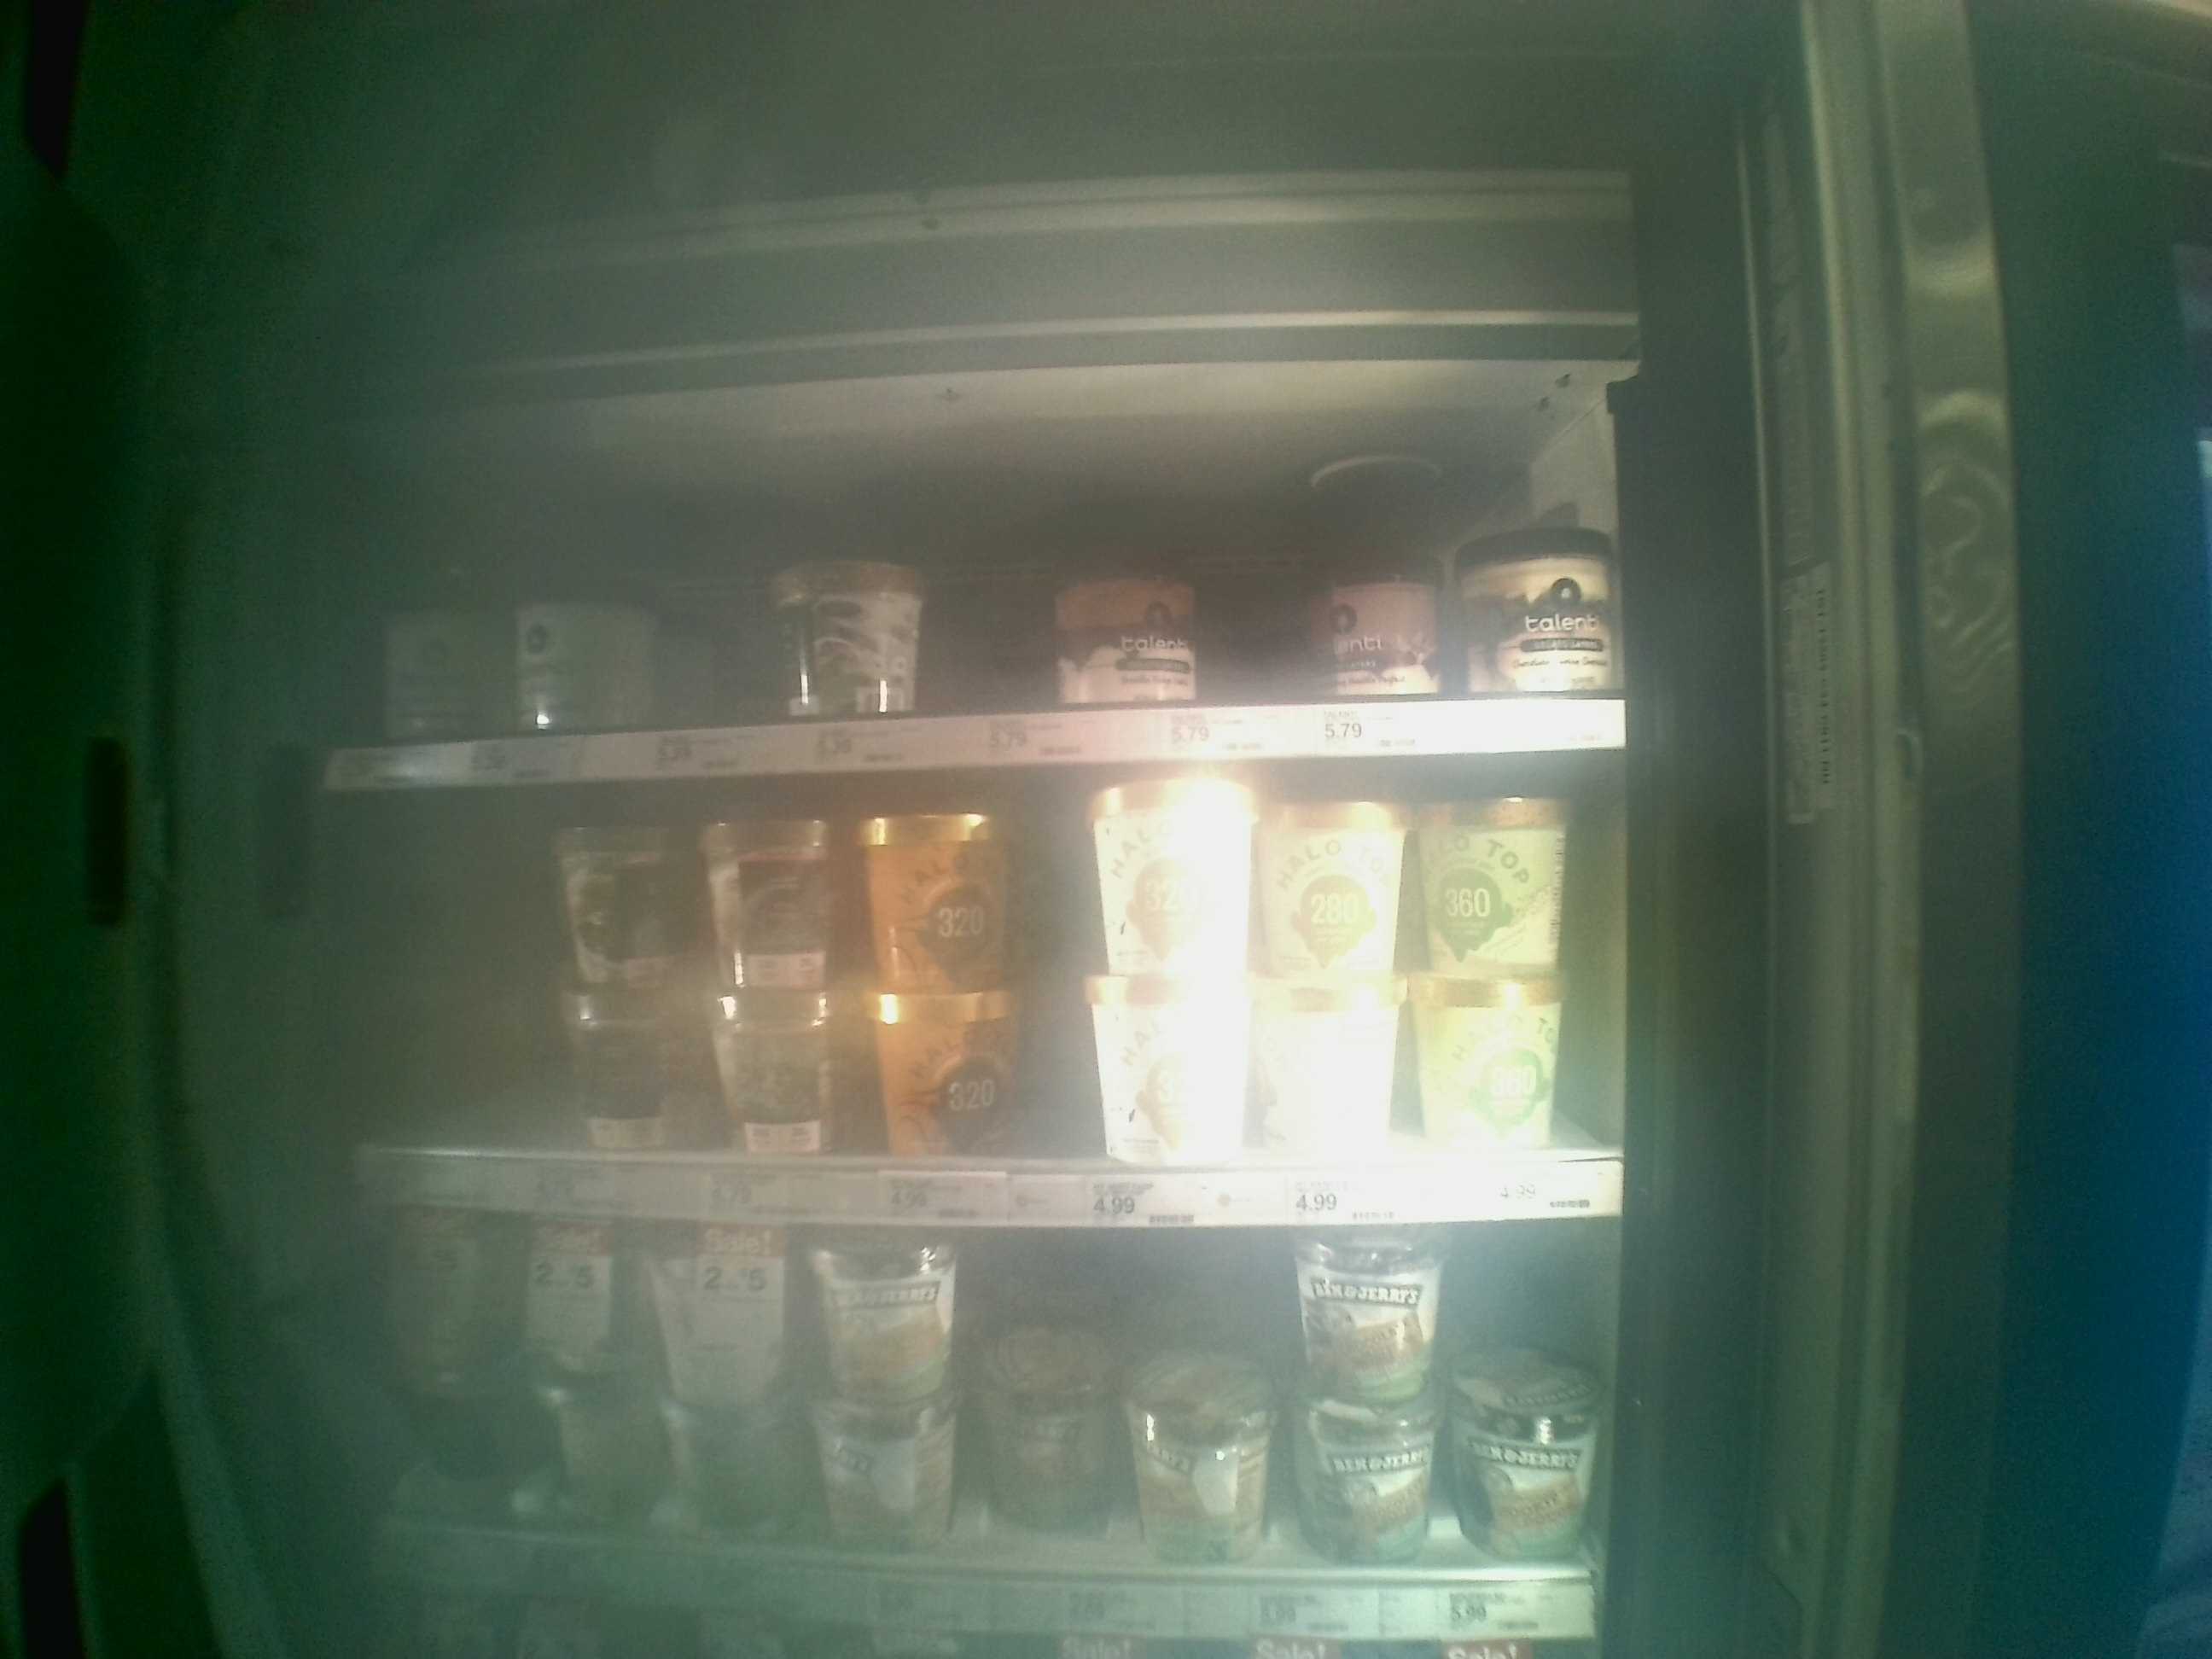shelf: (310, 779, 1630, 1234), (310, 396, 1629, 779)
